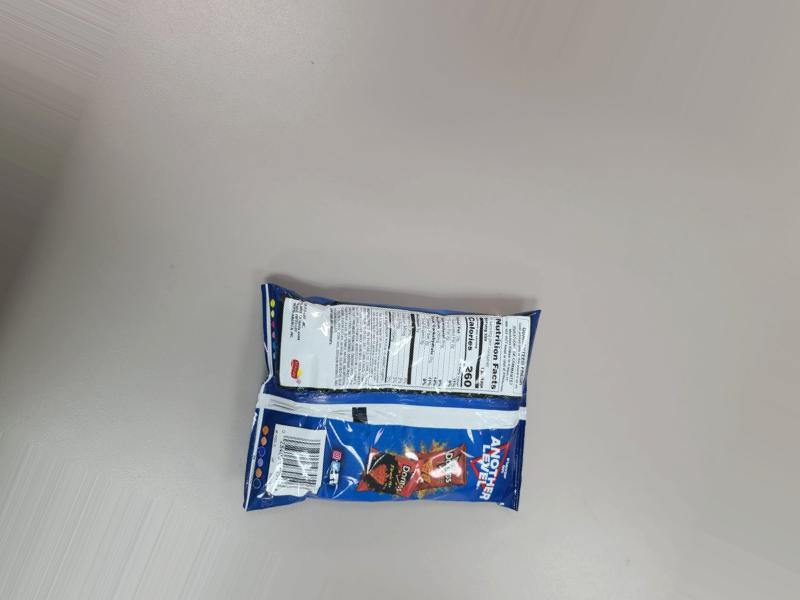doritos: (255, 284, 531, 535)
